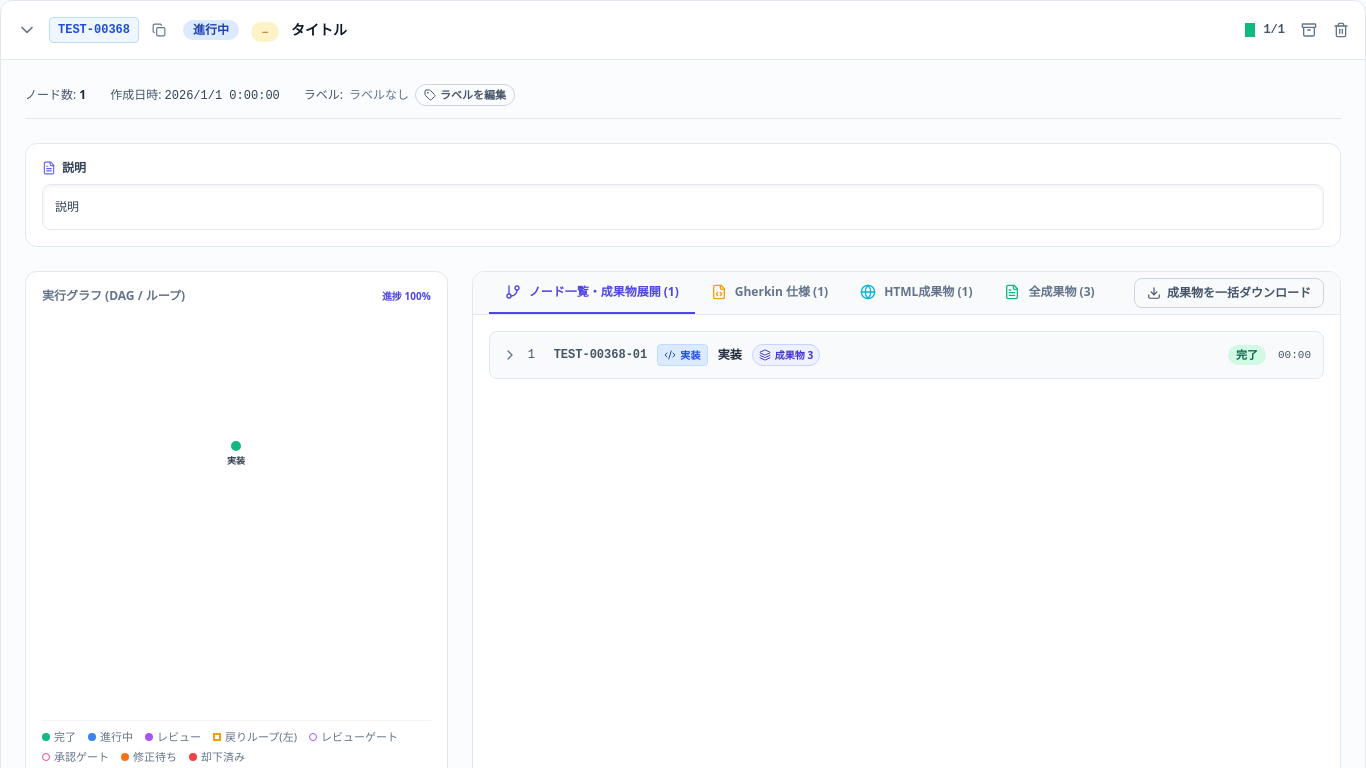
Test case: DFLT-00368 the other tabs keep the default link classes › Artifacts tab
What coordinates should you click on to do the following:
click the tab "全成果物 (3)"
I would click on:
 (1050, 292)
Its box is [988,272,1111,314].
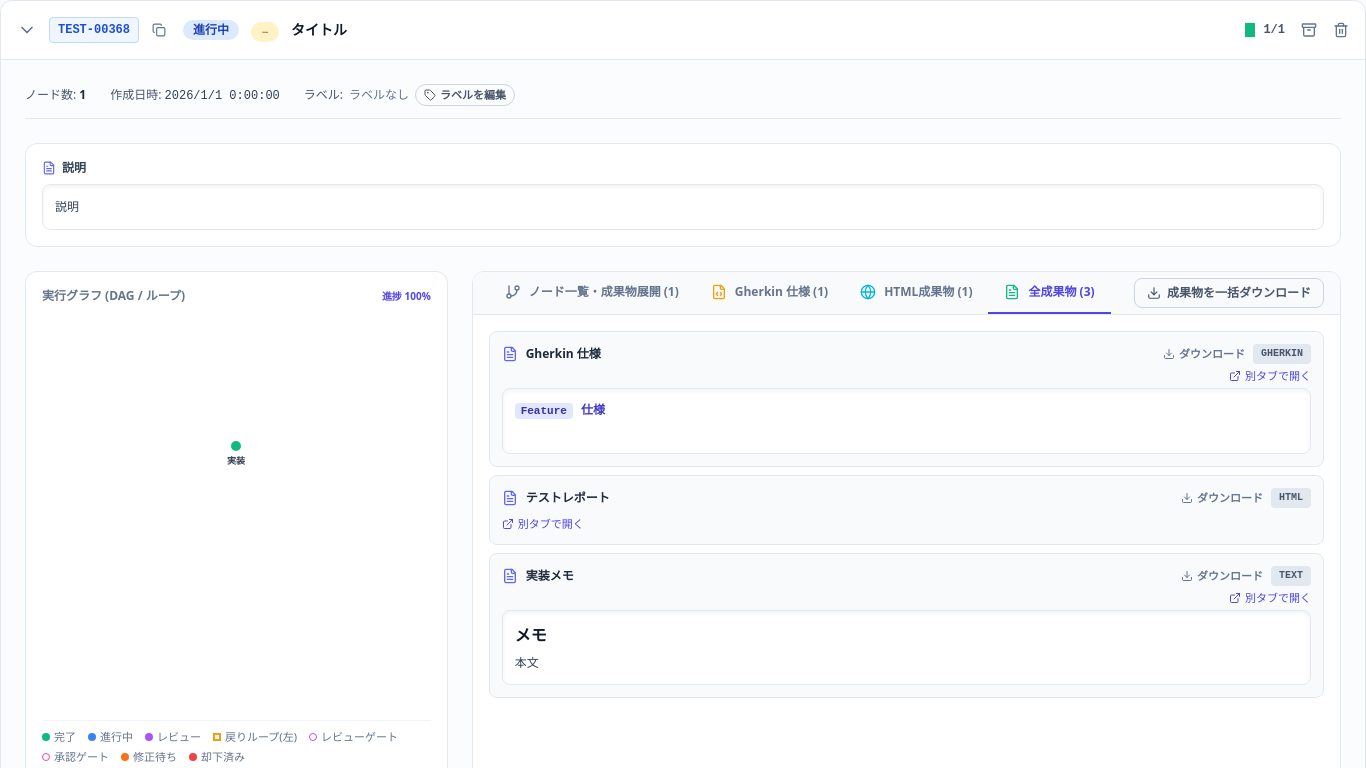
Now the 1st link "別タブで開く" is shown, box [1229,368,1311,384]
